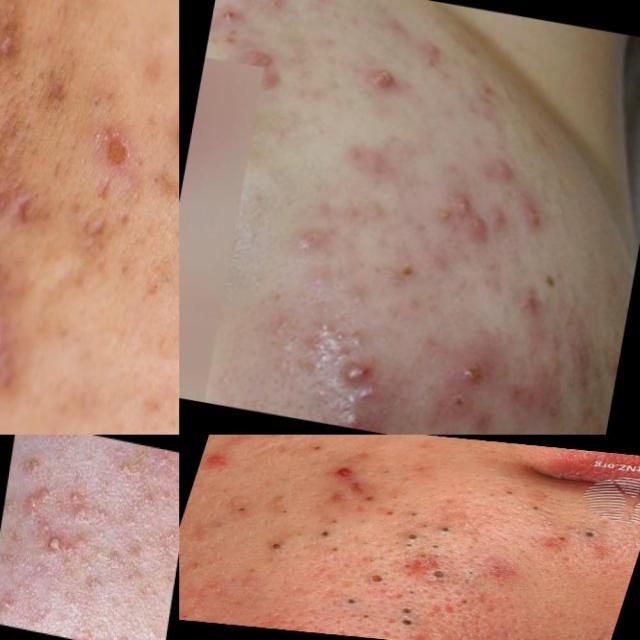8: (506, 272, 557, 327), (509, 190, 541, 230), (200, 447, 236, 478), (484, 147, 518, 179), (60, 484, 88, 522), (322, 460, 363, 482), (451, 188, 475, 215), (468, 210, 484, 240), (0, 580, 12, 616)
9: (362, 47, 404, 91), (448, 349, 480, 387), (34, 526, 66, 558), (343, 358, 373, 378)
blackheads: (0, 292, 26, 384), (304, 323, 346, 377), (15, 440, 46, 488), (339, 386, 377, 416)
dark spot: (398, 515, 458, 548), (362, 503, 426, 521), (382, 604, 421, 628), (321, 588, 366, 608), (264, 532, 300, 554), (423, 564, 465, 582), (566, 525, 608, 541), (297, 439, 337, 455), (312, 523, 338, 544), (268, 504, 300, 520), (542, 530, 568, 549), (364, 567, 390, 583), (228, 499, 254, 515), (518, 499, 538, 514), (497, 484, 517, 499)
